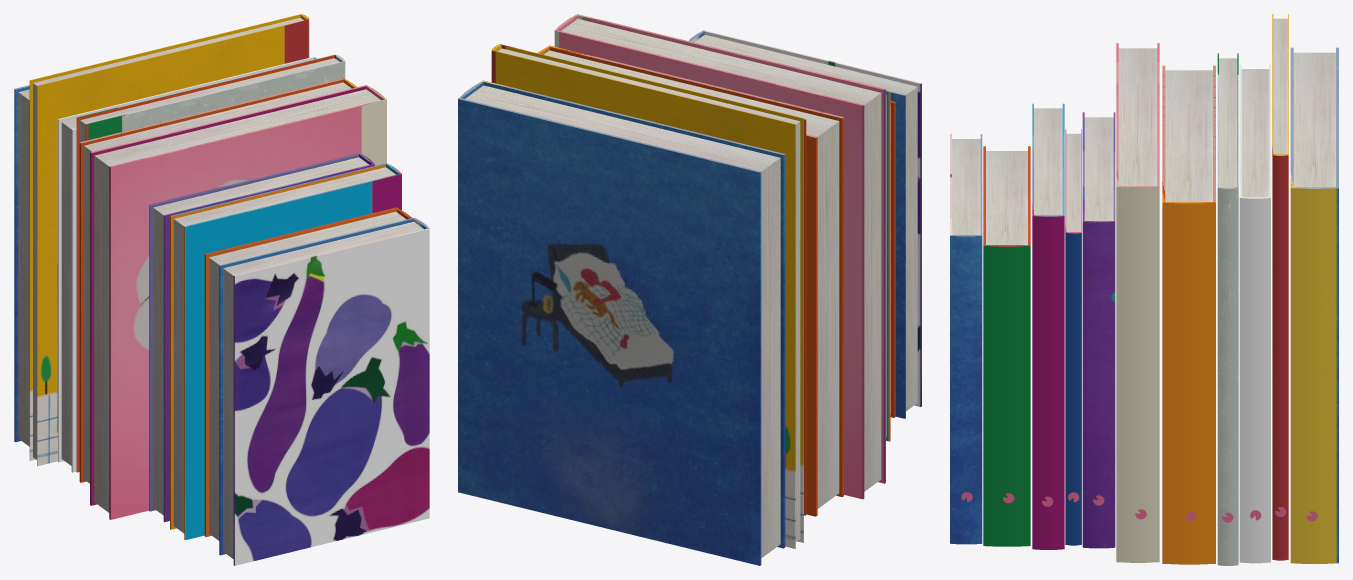
Rendered from Books2_1.FBX.
The picture shows the model from 3 angles, left to right: view 1: azimuth 30°, elevation 25°; view 2: azimuth 150°, elevation 25°; view 3: azimuth 270°, elevation 25°; orthographic projection. The views are drawn at different scales.
Visible parts, largest first — view 1: Books1.016; view 2: Books1.016; view 3: Books1.016.
Part boxes in pixels (box(x1,y1,x2,y2)): Books1.016: box(14, 14, 429, 565); Books1.016: box(458, 14, 921, 565); Books1.016: box(950, 14, 1338, 565).
Bounding box in the file's own units: 10.6 × 13.5 × 11.76.
